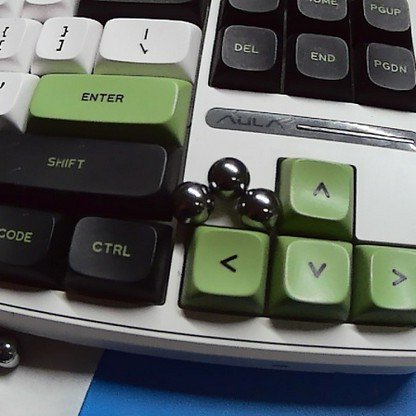ironball: (232, 187, 276, 232), (204, 149, 247, 195), (171, 178, 214, 221)
